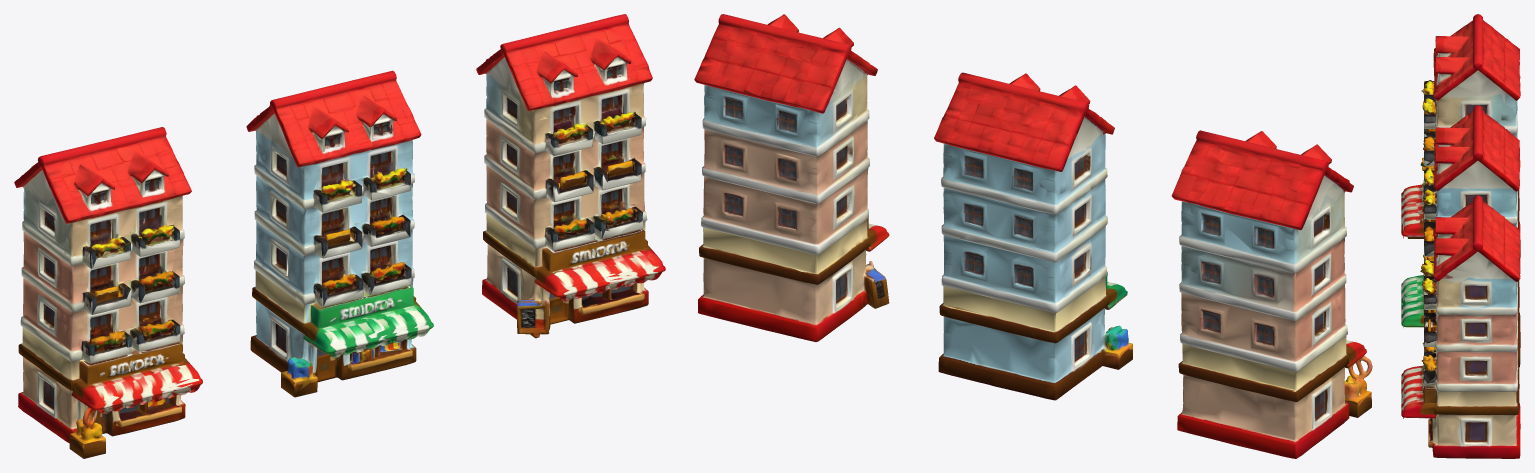
The model's file is row_grand.glb.
3 renders of one model, left to right at view 1: azimuth 30°, elevation 25°; view 2: azimuth 150°, elevation 25°; view 3: azimuth 270°, elevation 25°, orthographic. The views are drawn at different scales.
Visible parts, largest first — view 1: mesh_node; view 2: mesh_node; view 3: mesh_node.
Part boxes in pixels (x1,y1,x2,y2): mesh_node: [14, 14, 665, 458]; mesh_node: [694, 14, 1372, 458]; mesh_node: [1401, 14, 1520, 458].
Size of the model in its own units: 1.9 by 0.8372 by 0.4168.
Materials: 1 (1 with a texture image).
